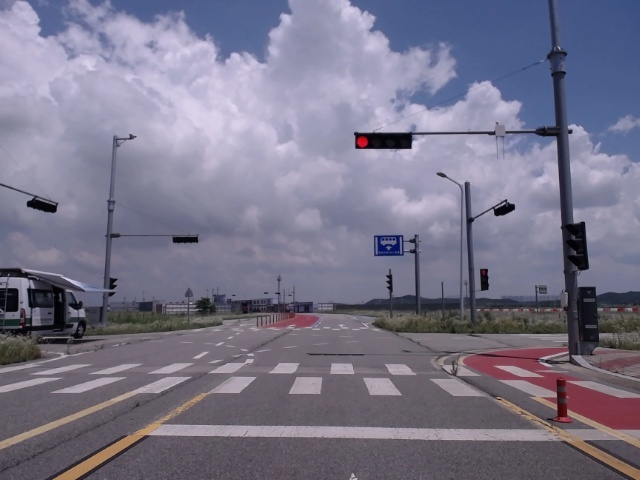red_4: (355, 135, 412, 149)
